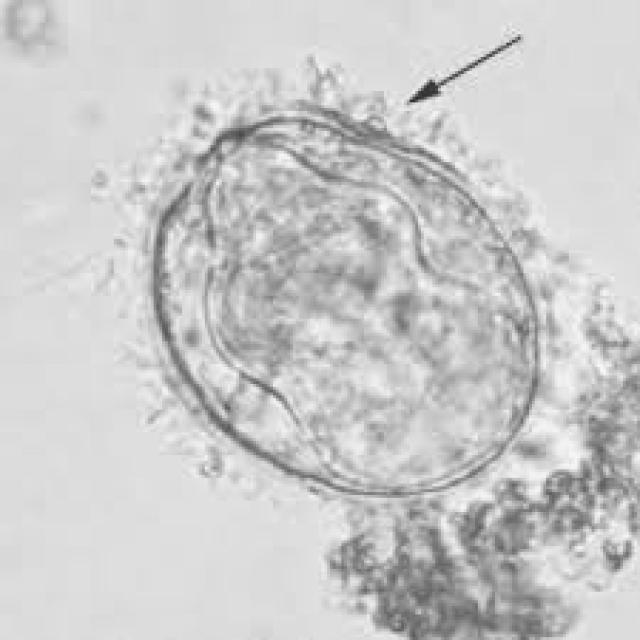Schistosoma: (142, 112, 549, 496)
